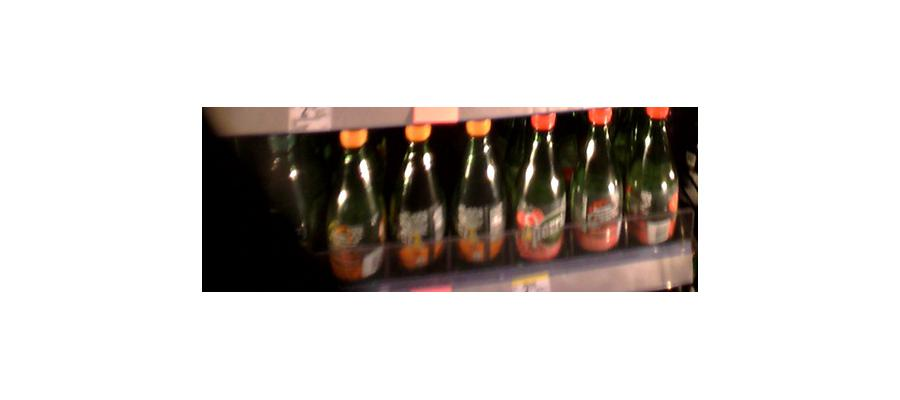bottle: (326, 126, 387, 284), (391, 122, 447, 276), (451, 118, 507, 270), (570, 105, 624, 258), (514, 113, 567, 266), (625, 105, 680, 252), (280, 132, 328, 252)
